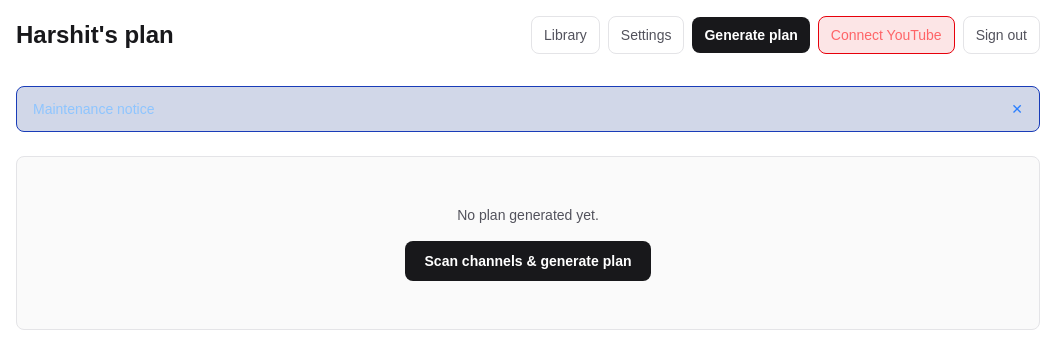
Test: DashboardPage - announcement banner › dismisses announcement when ✕ is clicked
Expected: the text "Maintenance notice" is shown, [33, 99, 154, 119]
Click the button "✕" at (1017, 109), box [1011, 99, 1023, 119]
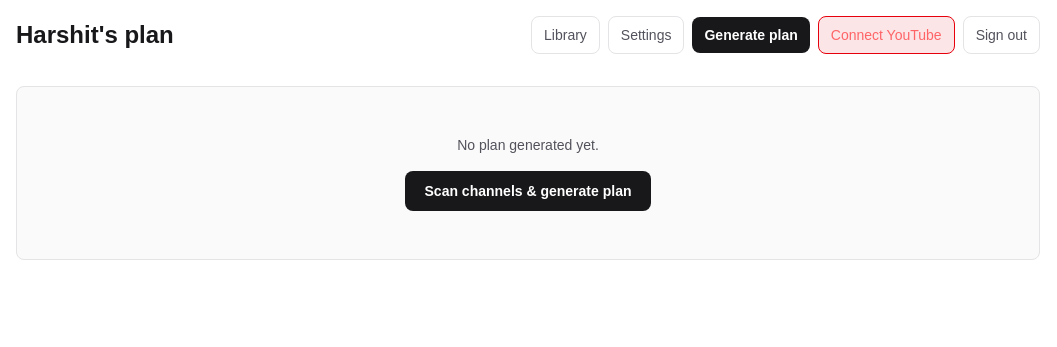
Expected: the text "Maintenance notice" is gone
